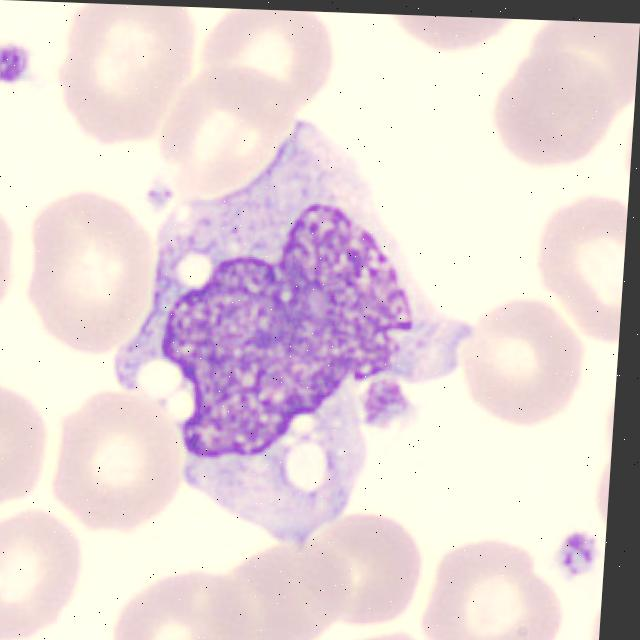monocyte: (118, 123, 486, 544)
platelets: (559, 507, 599, 586), (0, 39, 40, 96)
rbc: (13, 179, 155, 356), (442, 287, 591, 443), (478, 45, 631, 187), (286, 501, 435, 640), (145, 52, 292, 192), (56, 2, 200, 142), (192, 7, 355, 130), (198, 8, 349, 137), (48, 394, 188, 530), (528, 161, 631, 338), (419, 525, 574, 640), (104, 555, 275, 640), (509, 19, 640, 125), (225, 538, 353, 640), (0, 502, 81, 640), (370, 14, 532, 71), (0, 364, 58, 517), (0, 183, 20, 330), (324, 615, 425, 640)
